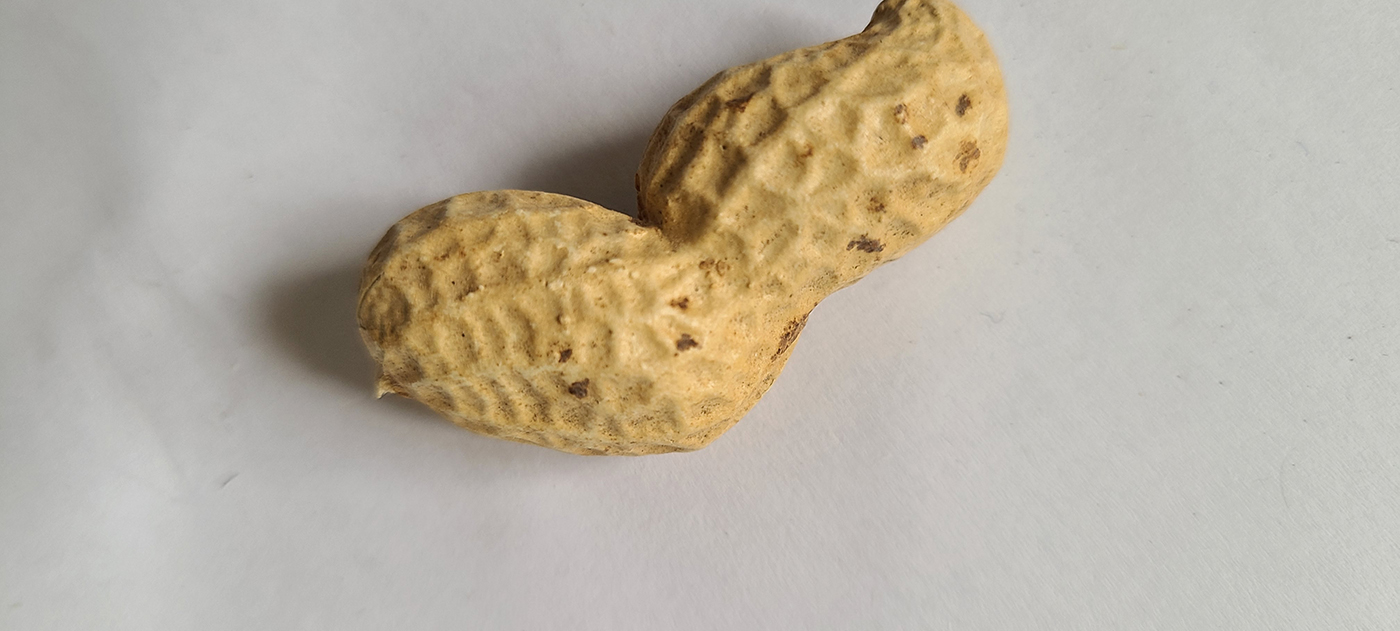h: (352, 1, 1011, 465)
